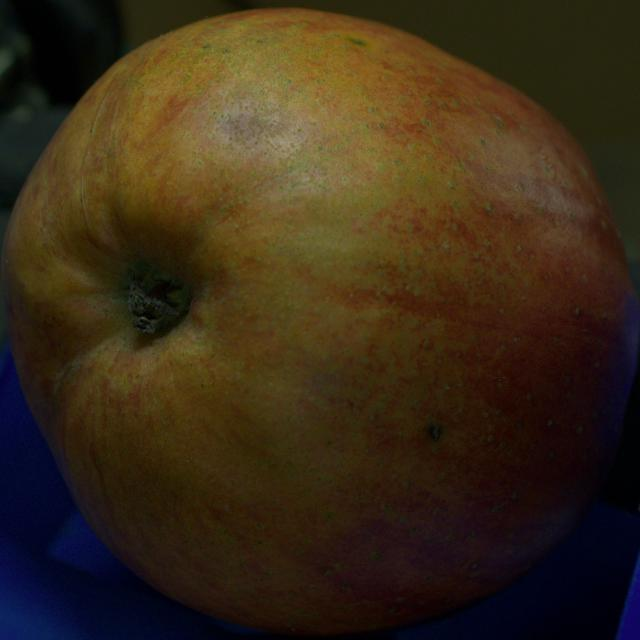apple: (2, 9, 639, 635)
pest: (429, 423, 442, 441), (349, 37, 366, 45)
